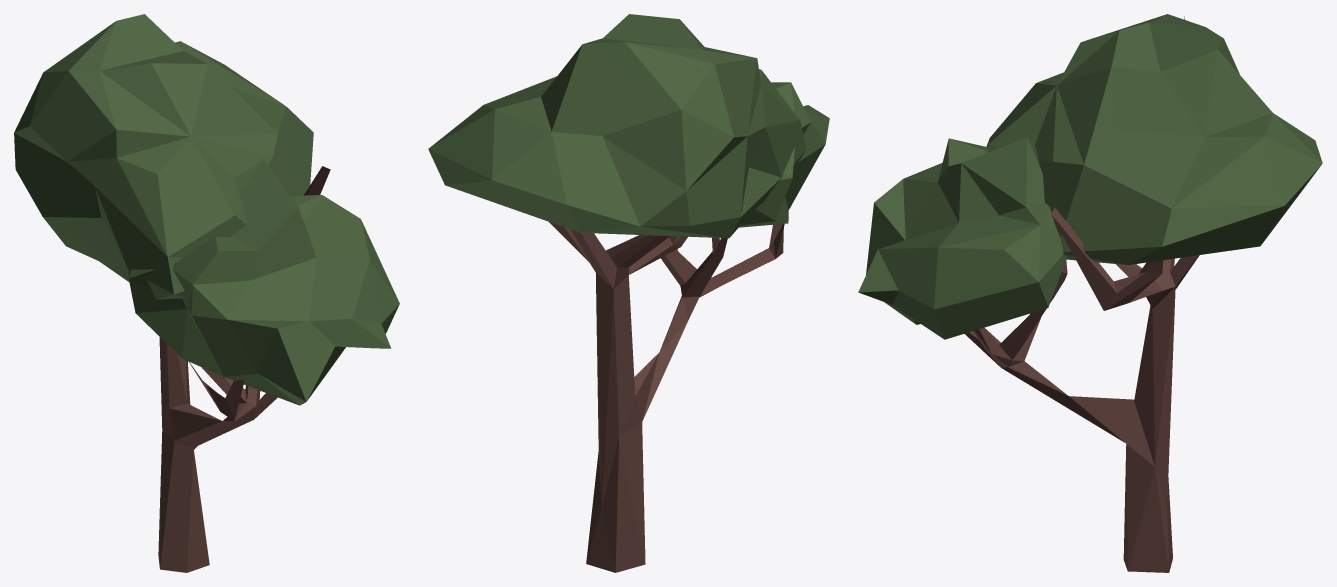
The model's file is tree-common-2.gltf.
3 views of the same model, side by side, from view 1: azimuth 30°, elevation 25°; view 2: azimuth 150°, elevation 25°; view 3: azimuth 270°, elevation 25° (orthographic). The views are drawn at different scales.
Visible parts, largest first — view 1: CommonTree_2_Cube.001; view 2: CommonTree_2_Cube.001; view 3: CommonTree_2_Cube.001.
Boxes of the visible parts, x1,y1,x2,y2 form: CommonTree_2_Cube.001: (14, 14, 399, 572); CommonTree_2_Cube.001: (428, 14, 829, 572); CommonTree_2_Cube.001: (858, 14, 1322, 572).
Size of the model in its own units: 0.0166 by 0.0309 by 0.0251.
